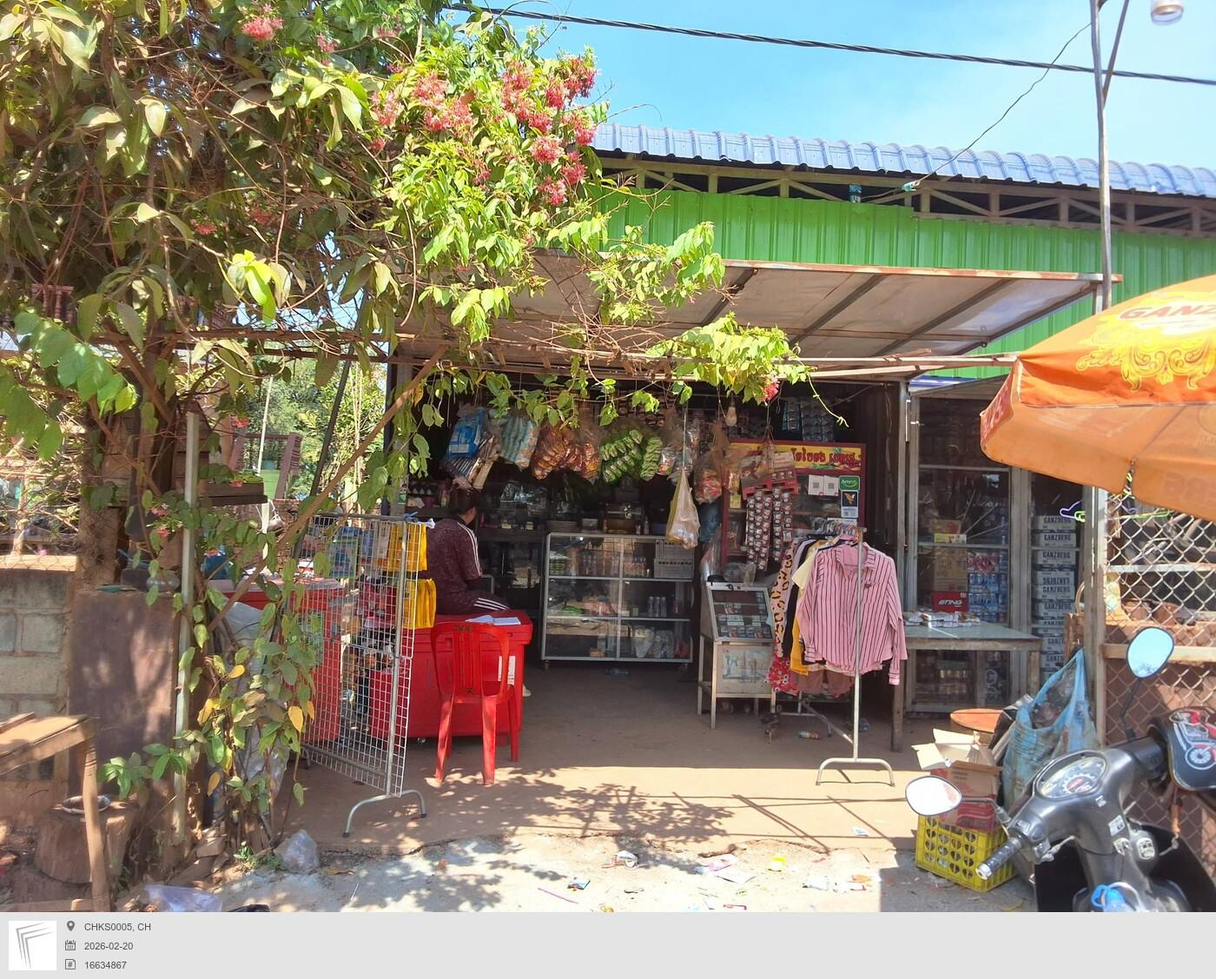cigarette_pack: (745, 625, 754, 638), (737, 624, 745, 638), (717, 614, 726, 626), (724, 603, 733, 615), (754, 626, 762, 639), (735, 614, 743, 626), (756, 591, 763, 604), (733, 603, 741, 614), (752, 616, 760, 627), (729, 626, 737, 637), (762, 626, 769, 638), (728, 615, 735, 626), (759, 604, 766, 615), (722, 626, 728, 638), (761, 615, 767, 626)
